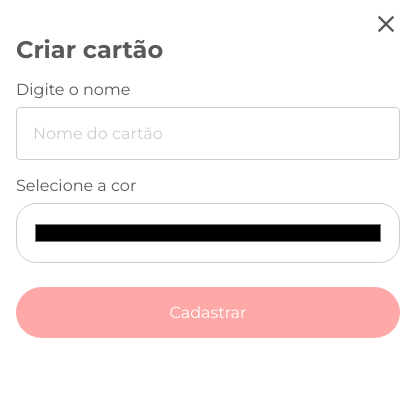
Scenario: New card component › should return error in both inputs when clicking submit without filling them
The width and height of the screenshot is (417, 393).
Step 1. Click the button "Cadastrar" → [208, 312], box [16,287,400,338]
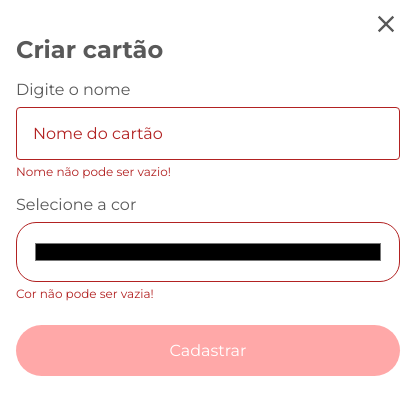
Now the text "Nome não pode ser vazio!" is shown, box [16,164,171,179]
Now the text "Cor não pode ser vazia!" is shown, box [16,286,154,301]
